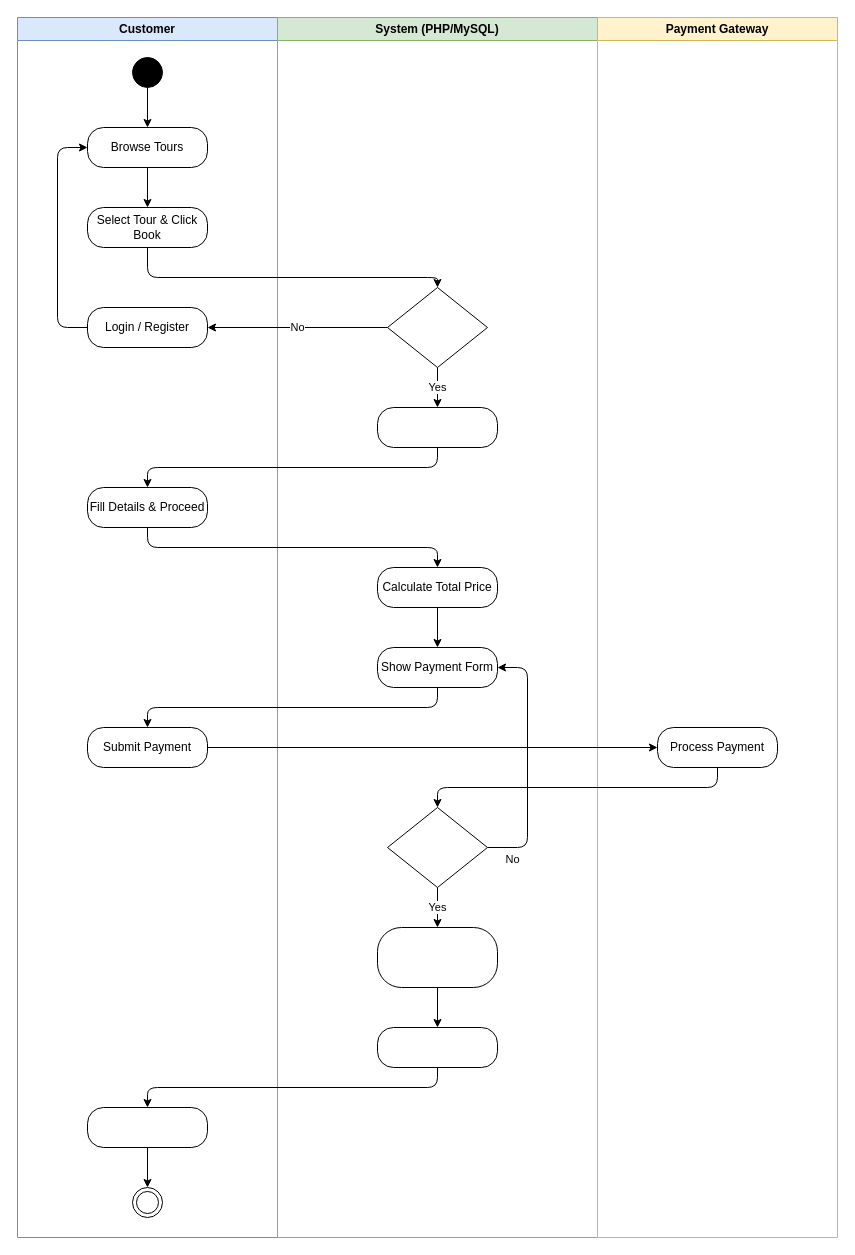
Some shapes in this 855 by 1255 pixel diagram are drawn without their labels. Each missing label, with the centre of its shape:
Display Booking Form: the point at 437,427
Display Confirmation: the point at 437,1047
Download PDF Ticket: the point at 147,1127
Is Logged In?: the point at 437,327
Save Record & Generate Tickets: the point at 437,957
Success?: the point at 437,847
